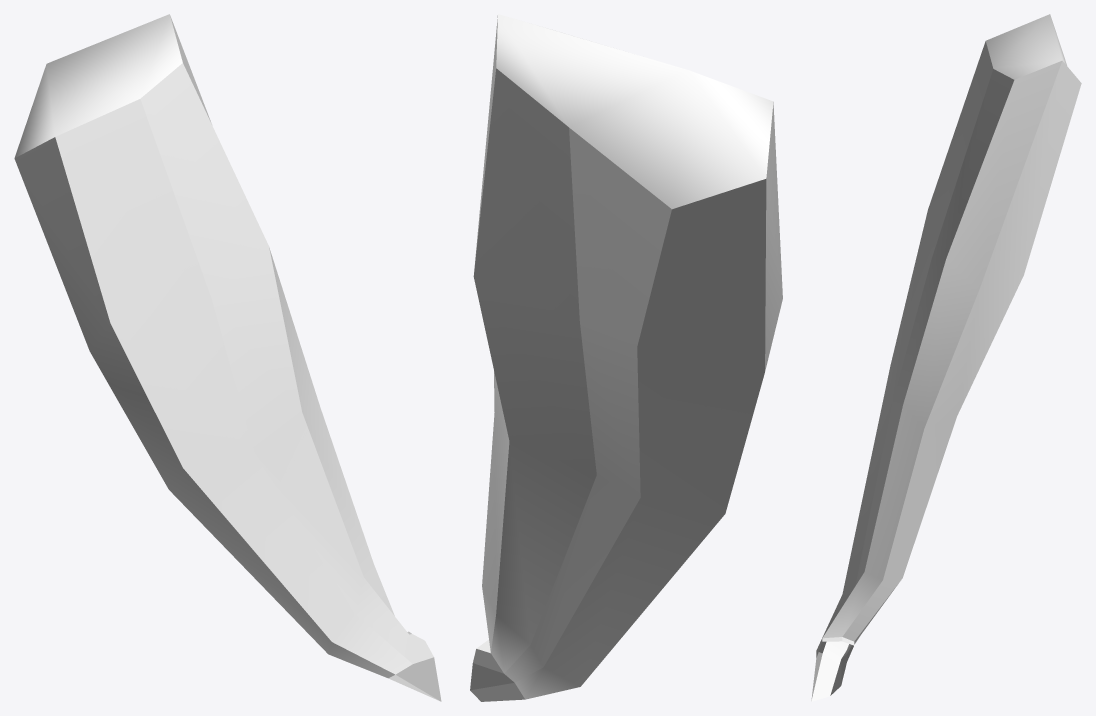
The model's file is rtail.obj.
3 views of the same model, side by side, from view 1: azimuth 30°, elevation 25°; view 2: azimuth 150°, elevation 25°; view 3: azimuth 270°, elevation 25° (orthographic). The views are drawn at different scales.
Visible parts, largest first — view 1: pasted__pCube28 group; view 2: pasted__pCube28 group; view 3: pasted__pCube28 group.
Boxes of the visible parts, bbox=[...] form: pasted__pCube28 group: bbox=[14, 14, 441, 701]; pasted__pCube28 group: bbox=[470, 14, 782, 701]; pasted__pCube28 group: bbox=[811, 14, 1081, 701].
Bounding box in the file's own units: 3.77 × 7.18 × 3.04.
Materials: 1 (1 with a texture image).
